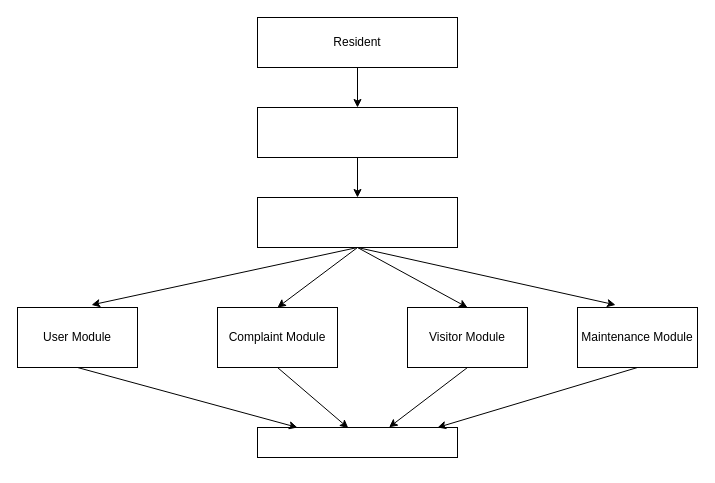
The diagram is 715 pixels wide and 483 high, and some of its shapes have lost their labels. Each missing label, with the centre of its shape:
Dashboard Module: (357,222)
Login Module: (357,132)
Users Database: (357,442)
